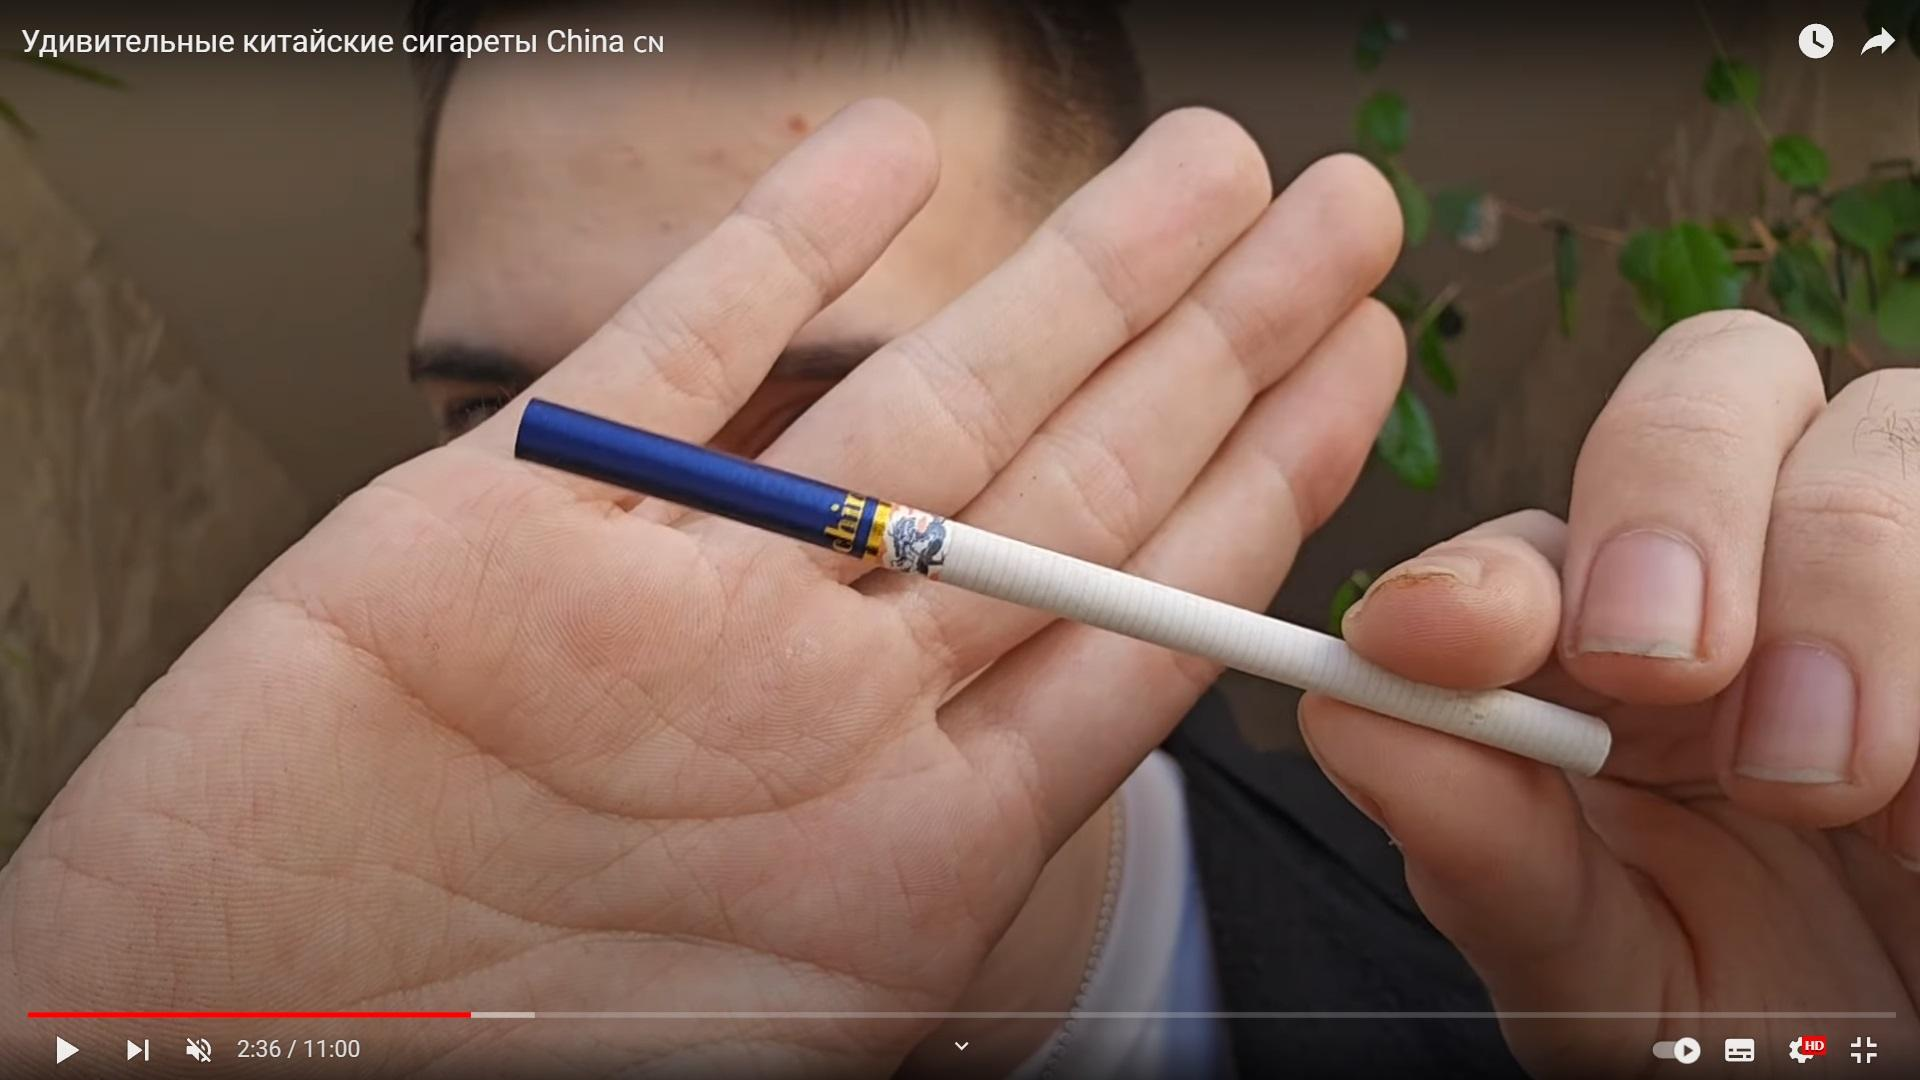cigarette: (506, 401, 1611, 770)
